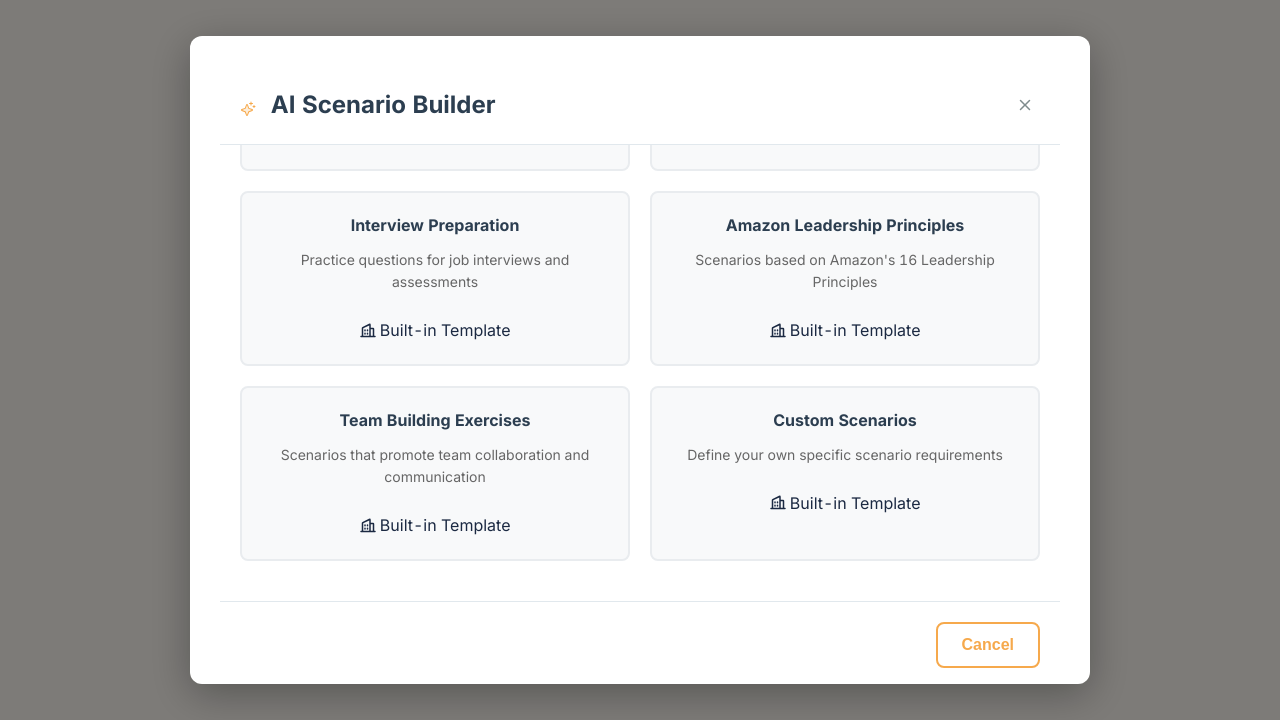
4. the padlocks in the real builder › the padlock carries the class its locked styling hangs off
(page scrolled)
Step 1. Click the heading "Custom Scenarios" → [845, 420], box [773, 410, 917, 430]
(page scrolled)
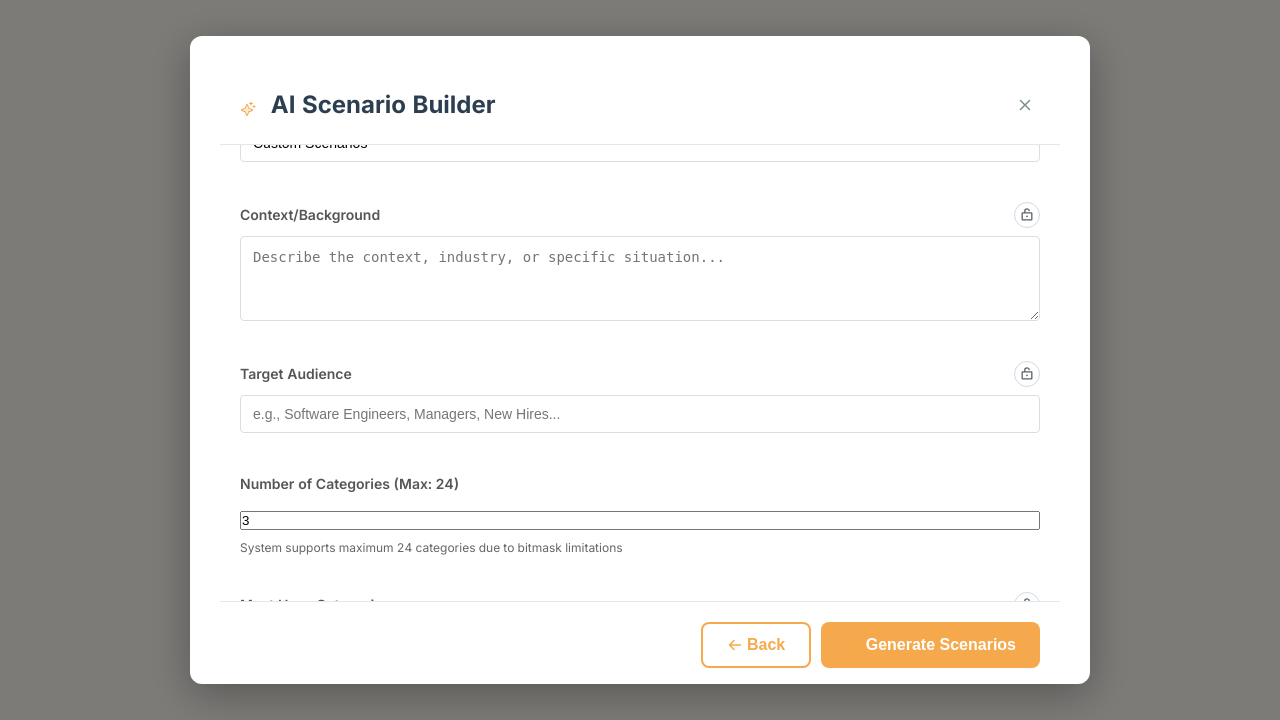
Step 2. Click the button with test id "field-lock-audience" → [1027, 374], box [1014, 361, 1040, 387]
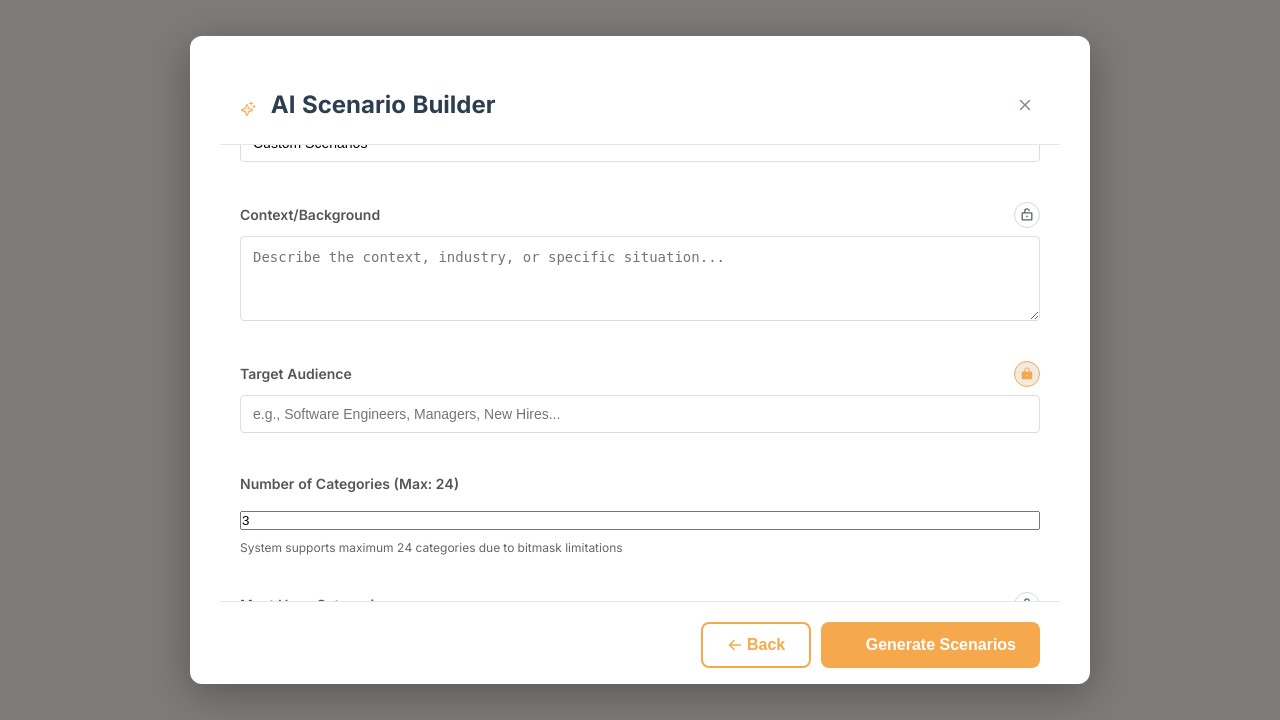
Expected: the button with test id "field-lock-audience" has class "is-locked", [1014, 361, 1040, 387]
